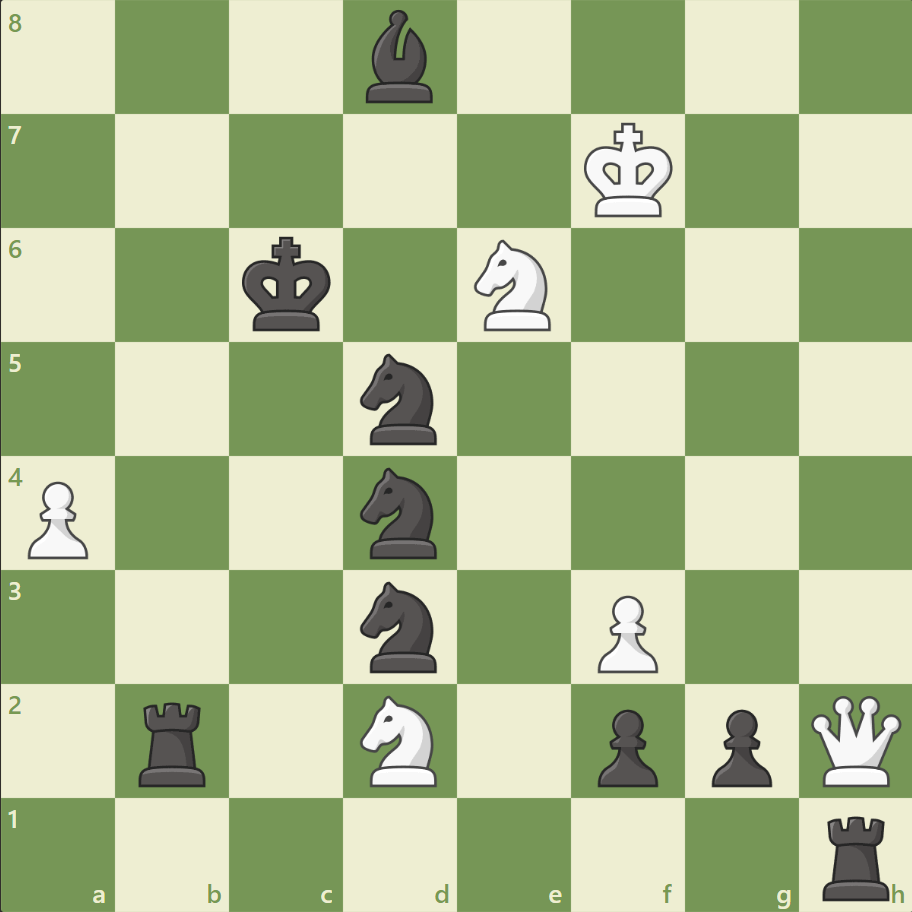K: (579, 117, 679, 225)
N: (351, 688, 449, 791), (465, 234, 562, 337)
P: (20, 473, 95, 564), (588, 586, 662, 677)
Q: (805, 690, 904, 789)
b: (358, 6, 442, 109)
k: (238, 231, 338, 339)
n: (351, 461, 449, 564), (351, 348, 449, 450), (351, 575, 449, 677)
p: (701, 700, 776, 791), (588, 700, 662, 791)
r: (814, 806, 897, 904), (133, 693, 215, 790)
